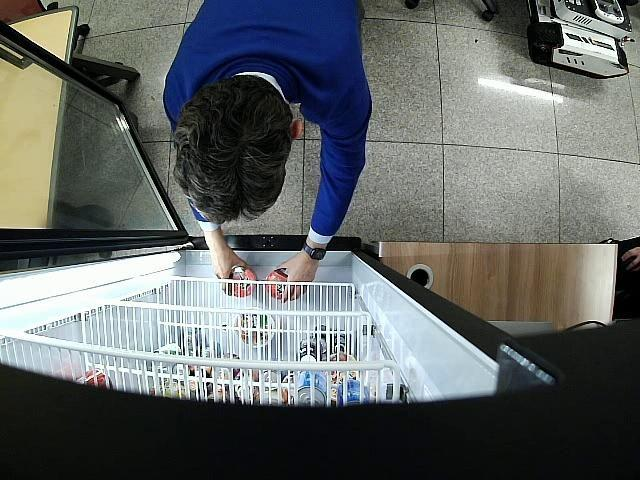02_shinRamen_S: (228, 264, 257, 298), (266, 268, 293, 300)
